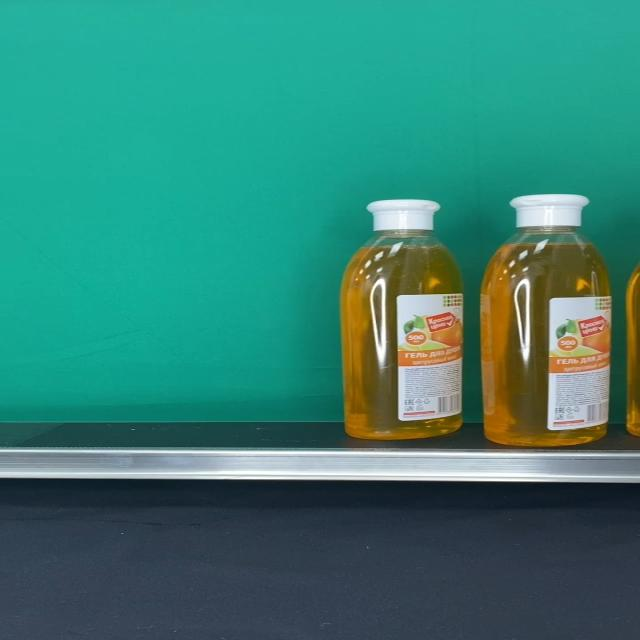Bottle: (482, 194, 612, 446), (340, 200, 464, 440)
Cap: (509, 195, 591, 228), (365, 200, 440, 230)
